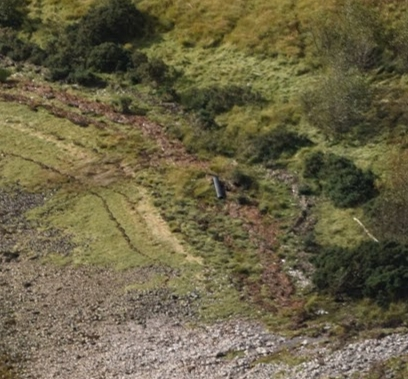straight_bar: (205, 173, 233, 202)
tube: (351, 213, 379, 242)
